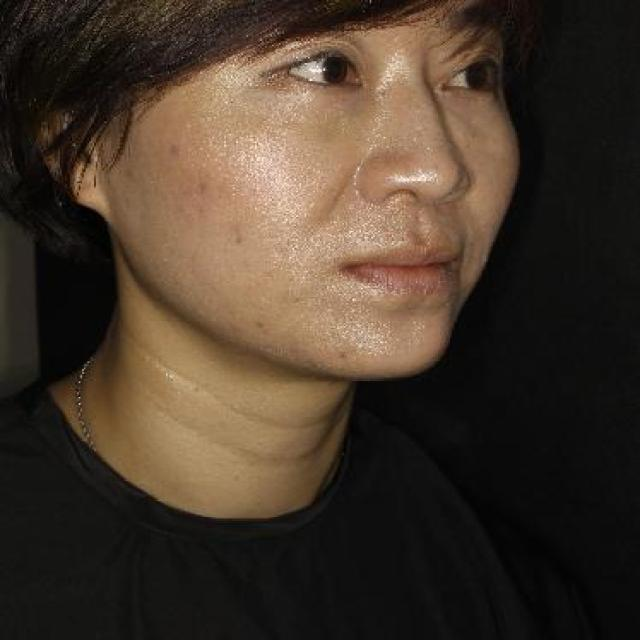dark spot: (161, 140, 188, 160), (226, 232, 248, 250), (336, 346, 354, 366), (252, 317, 268, 334)
